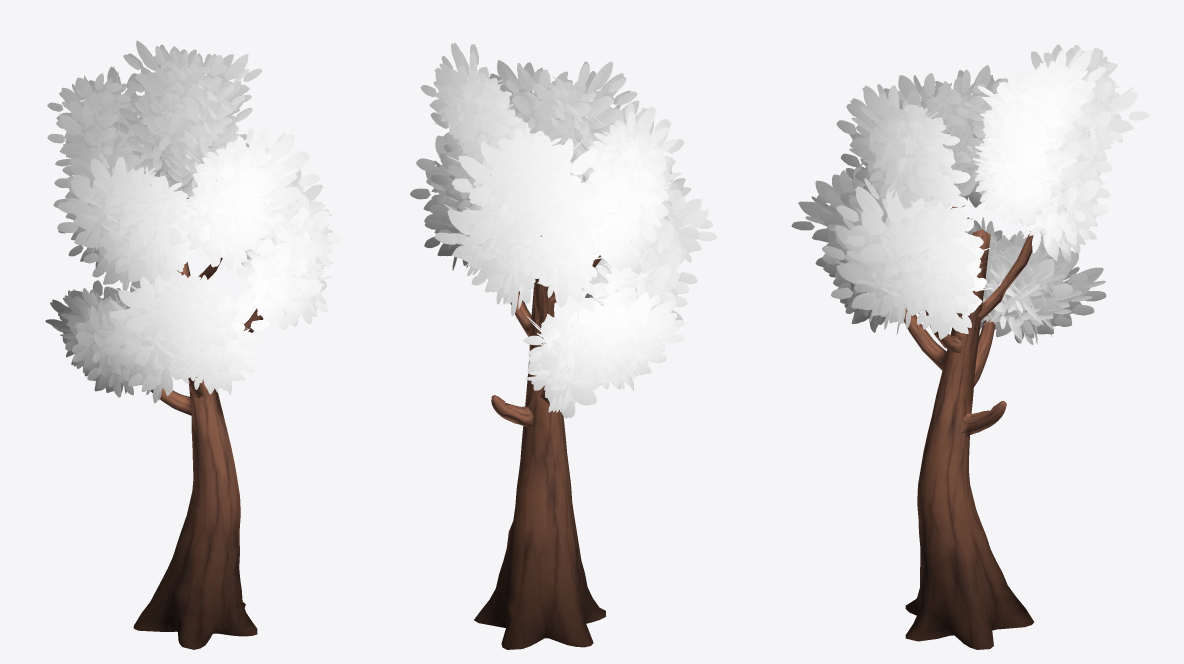
The model's file is CommonTree_5.glb.
3 renders of one model, left to right at view 1: azimuth 30°, elevation 25°; view 2: azimuth 150°, elevation 25°; view 3: azimuth 270°, elevation 25°, orthographic. The views are drawn at different scales.
Visible parts, largest first — view 1: CommonTree_5; view 2: CommonTree_5; view 3: CommonTree_5.
Boxes of the visible parts, x1,y1,x2,y2 form: CommonTree_5: [45, 40, 341, 649]; CommonTree_5: [410, 42, 716, 649]; CommonTree_5: [791, 44, 1149, 649].
Size of the model in its own units: 3.67 by 7.01 by 4.22.
2 materials, 2 textured.
